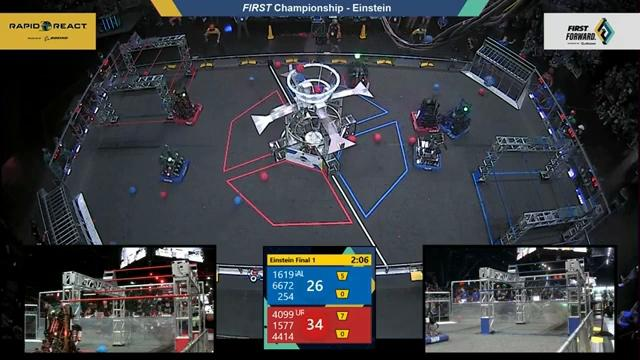robot: (165, 83, 213, 131), (437, 97, 475, 147), (405, 132, 448, 172), (153, 141, 192, 185), (403, 94, 444, 135), (339, 53, 375, 93), (426, 304, 449, 346)
